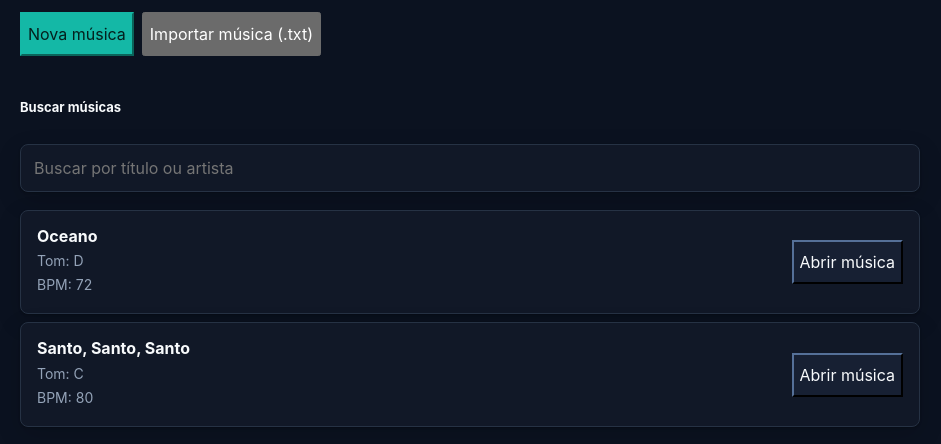
Test: SongLibraryPage › filters songs by title regardless of letter case and surrounding spaces
expect the heading "Oceano" is shown: met, box left=37, top=226, right=98, bottom=246
Type "  OCEANO  " into the search field labelled "Buscar músicas" at [470, 168], box left=20, top=144, right=920, bottom=192
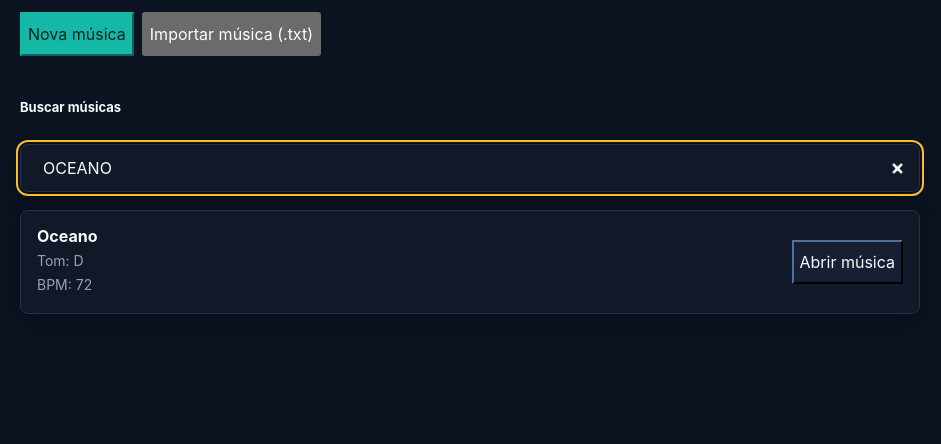
expect the heading "Oceano" is shown: met, box left=37, top=226, right=98, bottom=246
expect the heading "Santo, Santo, Santo" is gone: met
